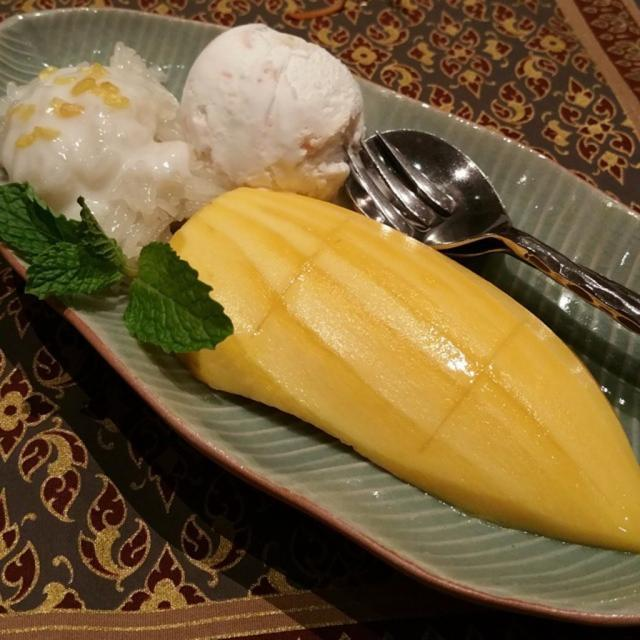Mango: (163, 183, 639, 551)
